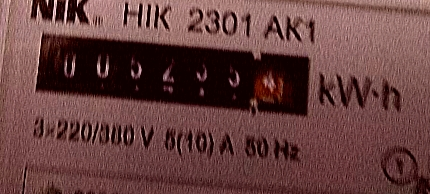0: (91, 46, 115, 81), (59, 46, 80, 79)
2: (157, 49, 182, 85)
3: (189, 51, 217, 86)
4: (258, 58, 283, 96)
5: (223, 53, 248, 91), (125, 47, 148, 82)
screen: (18, 14, 327, 131)
